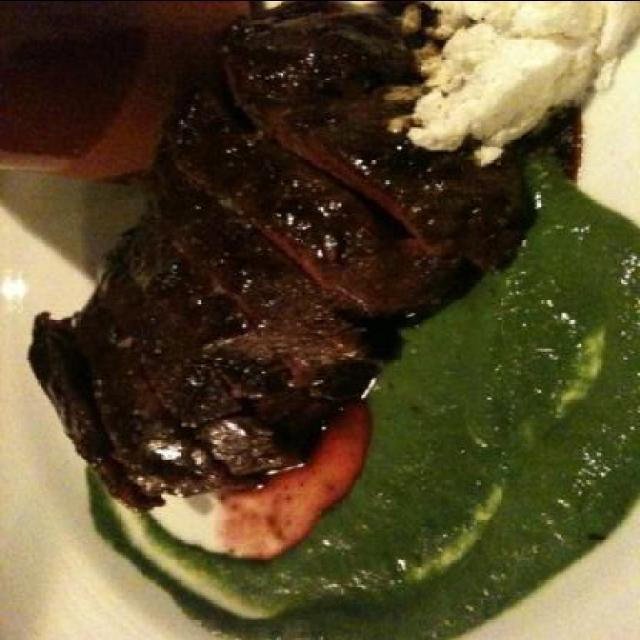Steak: (53, 13, 507, 490)
